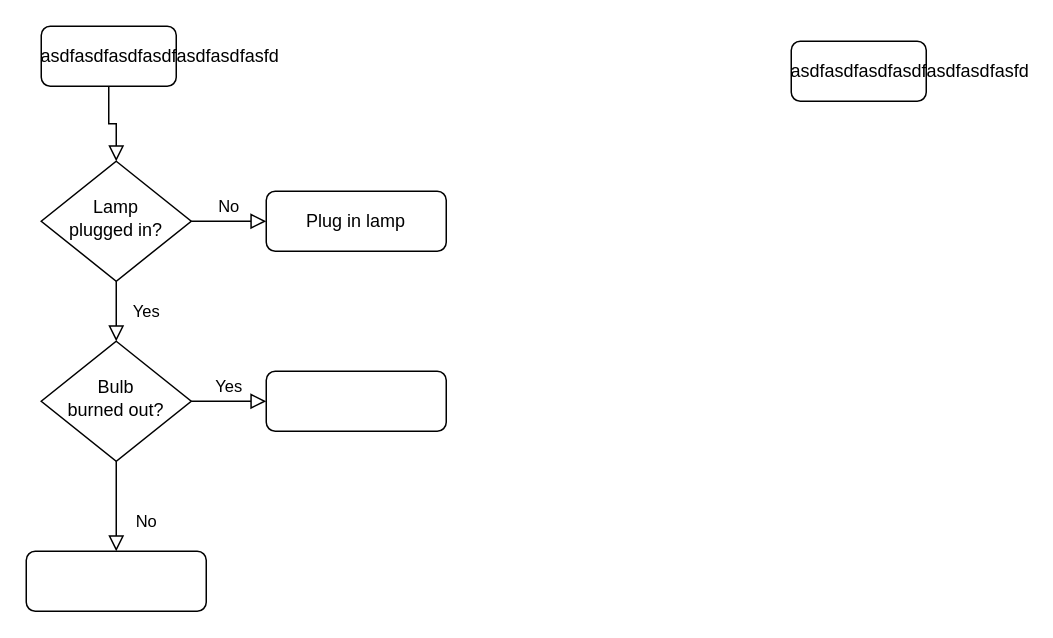
Some shapes in this 1053 by 638 pixel diagram are drawn without their labels. Here are the shapes that lost their labels. From the top down, the box of each, then its label:
(265, 370, 446, 431): Replace Bulb
(25, 550, 206, 611): Repair Lamp
